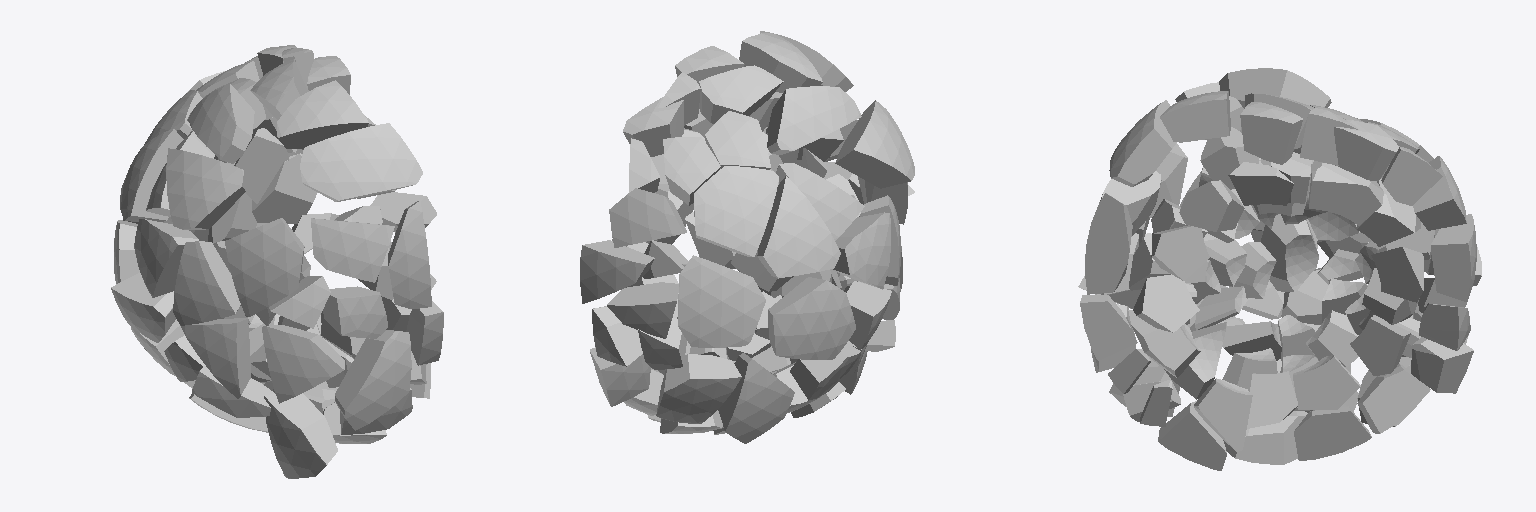
File: shatter_4.obj
The picture shows the model from 3 angles: view 1: azimuth 30°, elevation 25°; view 2: azimuth 150°, elevation 25°; view 3: azimuth 270°, elevation 25°; orthographic projection.
Size of the model in its own units: 17.48 by 24.27 by 24.35.